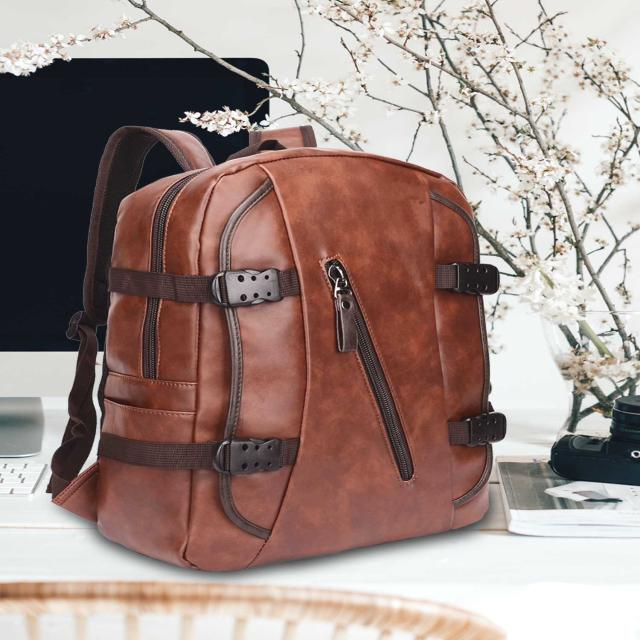backpack: (48, 125, 507, 573)
